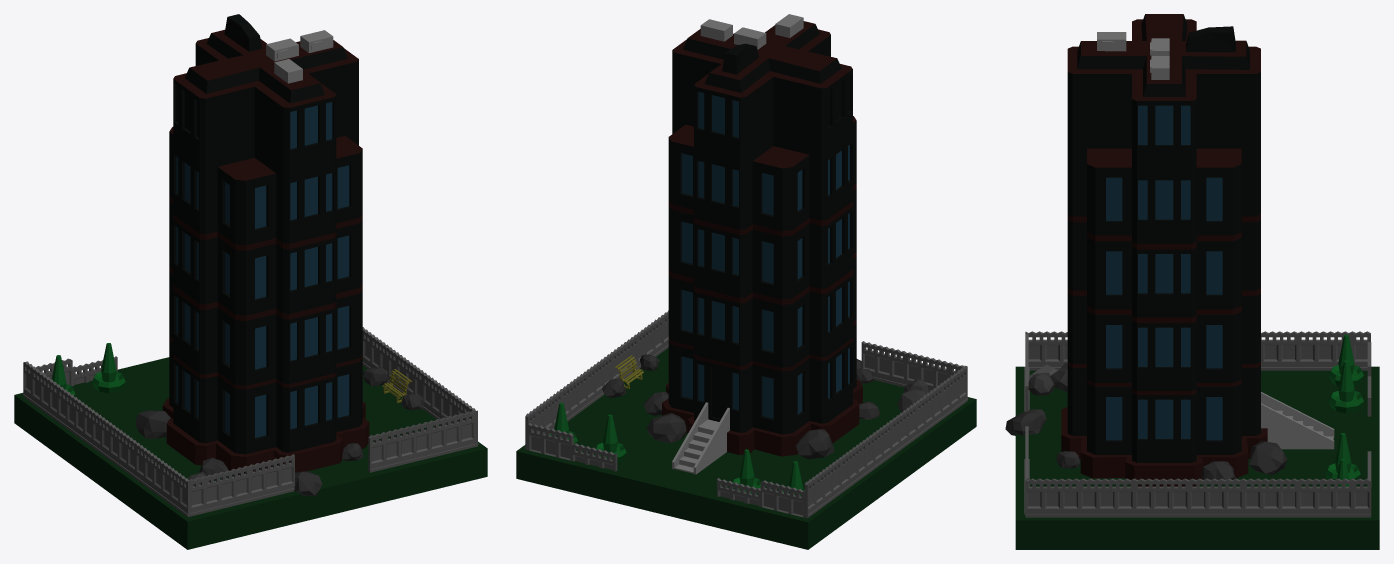
Rendered from Skyscraper1.FBX.
The picture shows the model from 3 angles, left to right: view 1: azimuth 30°, elevation 25°; view 2: azimuth 150°, elevation 25°; view 3: azimuth 270°, elevation 25°; orthographic projection. The views are drawn at different scales.
Parts seen in each view (by area): view 1: Skyscraper1; view 2: Skyscraper1; view 3: Skyscraper1.
Part boxes in pixels (<box>): Skyscraper1: <box>14,14,487,549</box>; Skyscraper1: <box>516,14,976,549</box>; Skyscraper1: <box>1005,14,1379,549</box>.
Size of the model in its own units: 10000 by 13444 by 10282.
